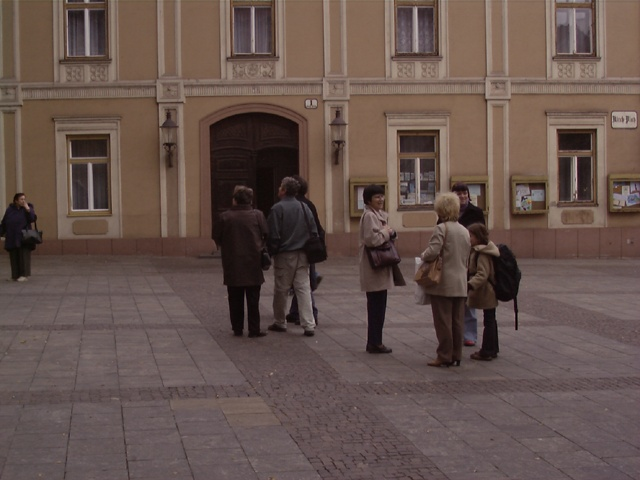person: (262, 170, 328, 341), (413, 188, 474, 372), (208, 179, 268, 340), (352, 182, 404, 356), (461, 218, 509, 362), (2, 194, 40, 279)
